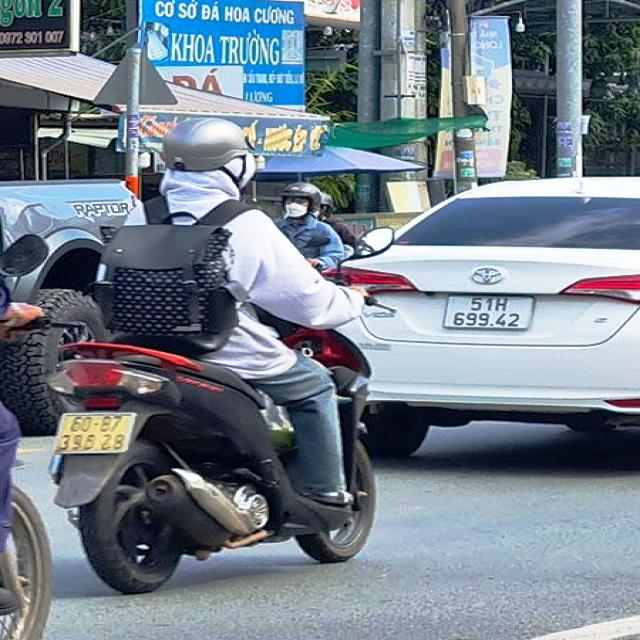license_plate: (55, 413, 136, 455), (442, 295, 534, 329)
